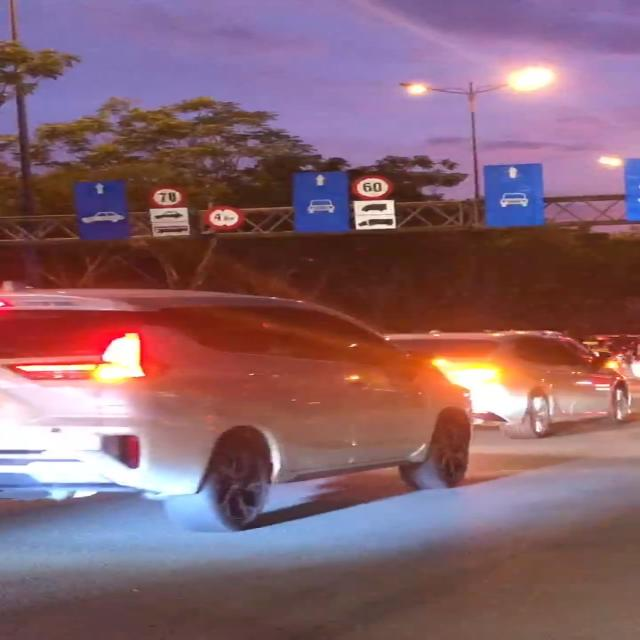Bien bao han che chieu cao: (202, 203, 237, 230)
Bien bao toc do toi da cho phep: (349, 175, 394, 197), (146, 185, 184, 208)
